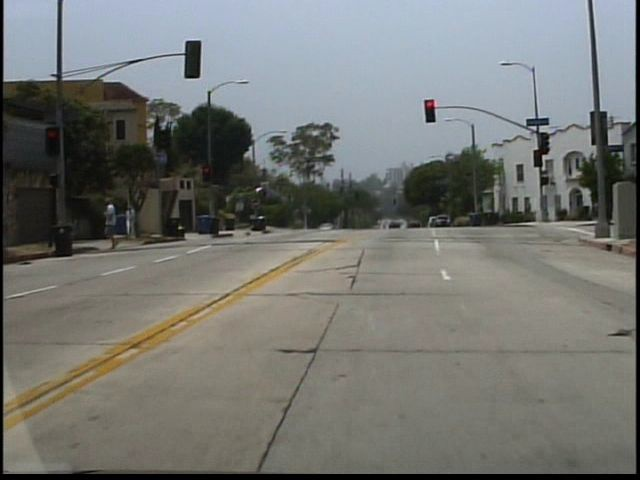person: (103, 193, 127, 248), (130, 200, 144, 242)
